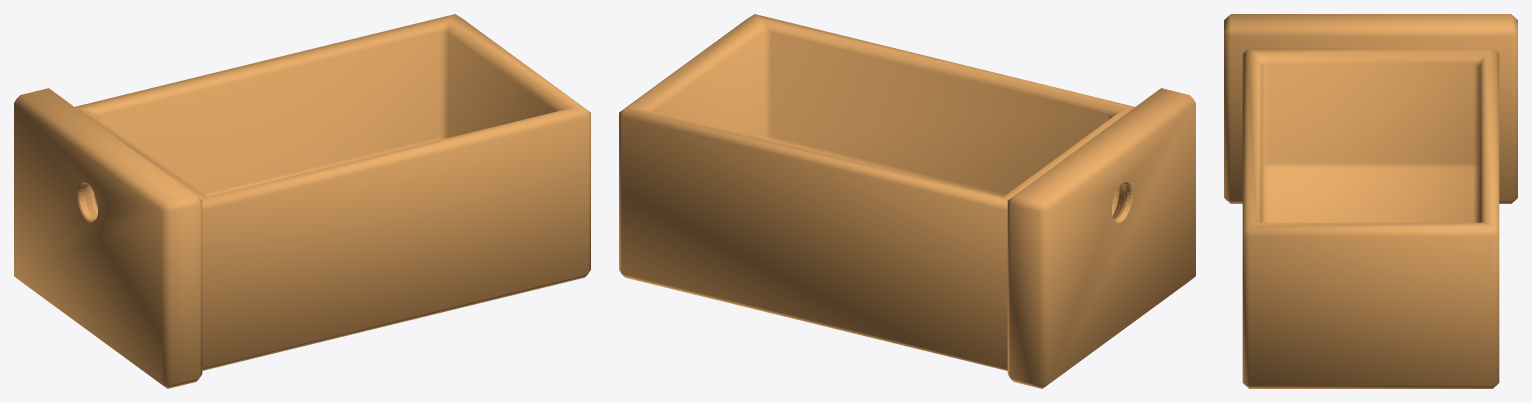
The model's file is toronto-desk-drawer-bot.fbx.
3 renders of one model, left to right at view 1: azimuth 30°, elevation 25°; view 2: azimuth 150°, elevation 25°; view 3: azimuth 270°, elevation 25°, orthographic. The views are drawn at different scales.
Parts seen in each view (by area): view 1: toronto-desk-drawer-bottom; view 2: toronto-desk-drawer-bottom; view 3: toronto-desk-drawer-bottom.
Boxes of the visible parts, left/top/right/bottom form: toronto-desk-drawer-bottom: left=14, top=14, right=590, bottom=388; toronto-desk-drawer-bottom: left=619, top=14, right=1195, bottom=388; toronto-desk-drawer-bottom: left=1224, top=14, right=1517, bottom=388.
Size of the model in its own units: 434 by 176 by 264.
